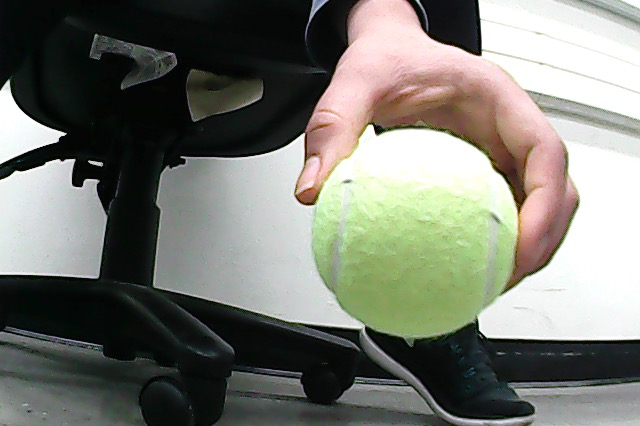ball: (313, 129, 518, 339)
